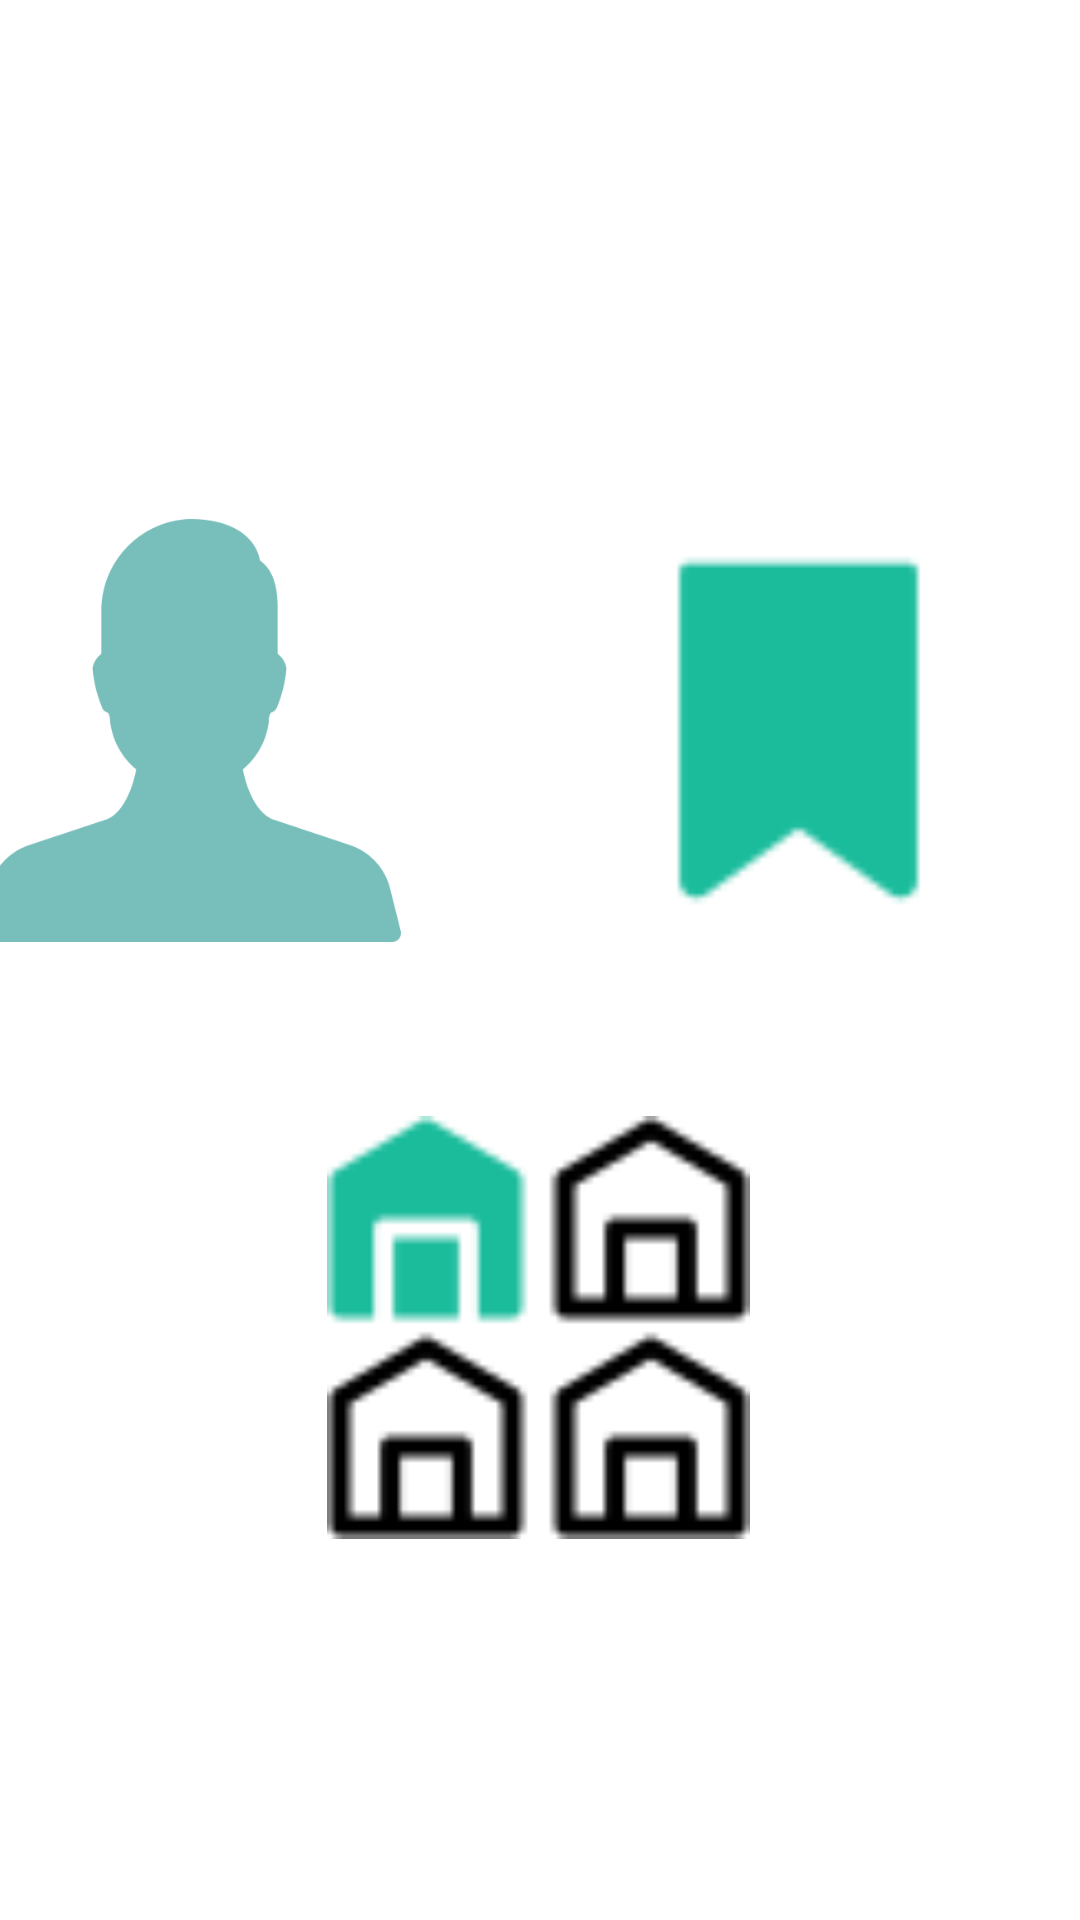

Icon bounding boxes for this 1080px x 1920px phone screenshot, format (x1, y1, x2, y2):
saved: (677, 558, 920, 903)
